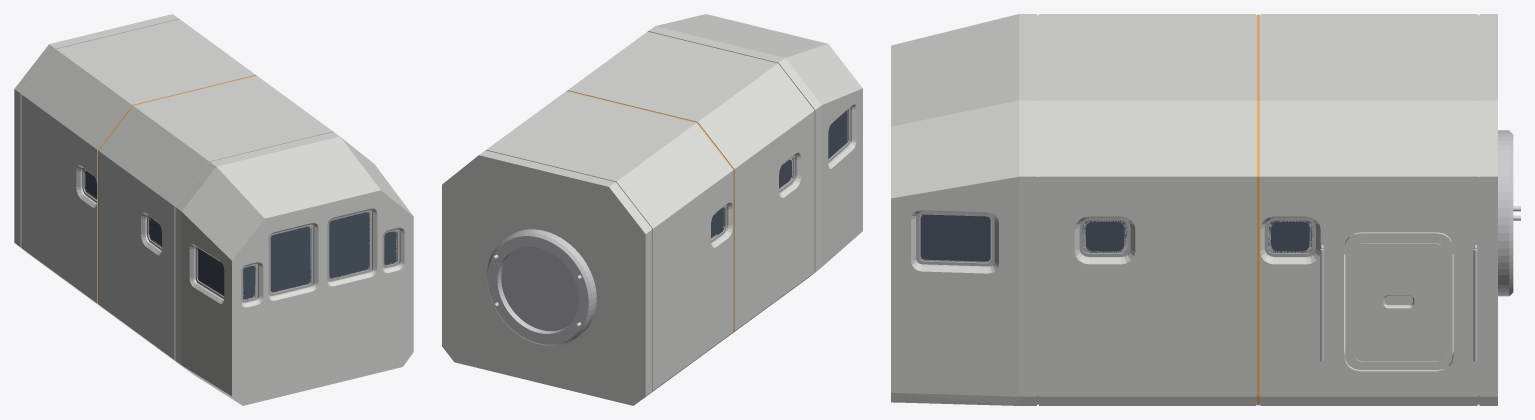
Rendered from ax_rover_02_cab4.glb.
3 renders of one model, left to right at view 1: azimuth 30°, elevation 25°; view 2: azimuth 150°, elevation 25°; view 3: azimuth 270°, elevation 25°, orthographic. The views are drawn at different scales.
Parts seen in each view (by area): view 1: hub_shell, window_glass, window_frames, orange_stripes; view 2: hub_shell, hatch_door_1, hub_ring_rear, window_glass, window_frames, orange_stripes; view 3: hub_shell, hatch_door_2, window_glass, hub_ring_rear, window_frames, orange_stripes, handrails.
Boxes of the visible parts, x1,y1,x2,y2 form: hub_shell: [14, 14, 413, 405]; window_glass: [84, 171, 396, 299]; window_frames: [82, 168, 399, 302]; orange_stripes: [98, 75, 256, 303]; hub_shell: [442, 14, 862, 405]; hatch_door_1: [501, 246, 578, 330]; hub_ring_rear: [486, 229, 596, 345]; window_glass: [711, 109, 847, 237]; window_frames: [711, 108, 850, 242]; orange_stripes: [567, 90, 733, 331]; hub_shell: [891, 14, 1497, 405]; hatch_door_2: [1345, 232, 1452, 369]; window_glass: [919, 214, 1312, 262]; hub_ring_rear: [1498, 130, 1513, 296]; window_frames: [916, 212, 1315, 266]; orange_stripes: [1257, 14, 1259, 405]; handrails: [1320, 245, 1477, 361].
Bounding box in the file's own units: 2.58 × 2.56 × 4.93.
